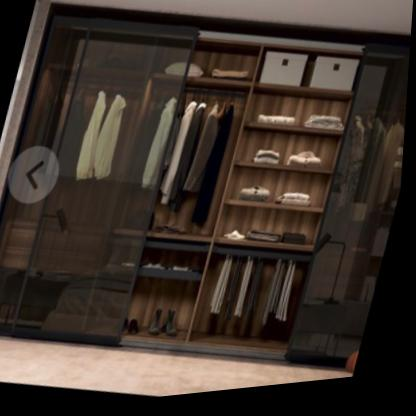Transparent Closet: (0, 3, 412, 378)
